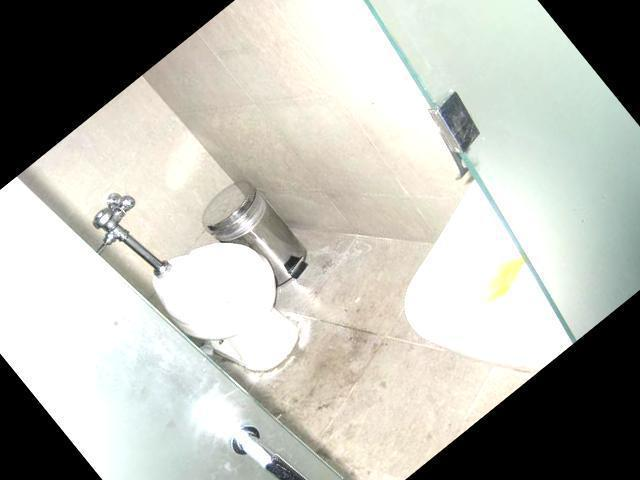Bote de Basura: (191, 174, 321, 313)
